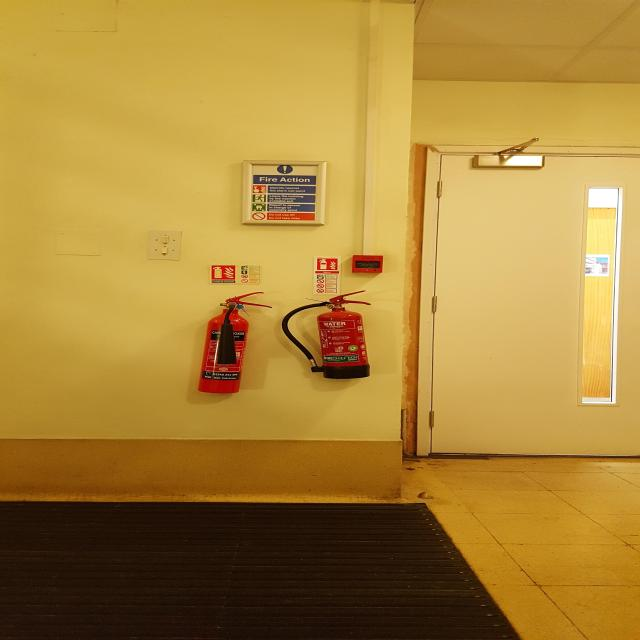fire_extinguisher: (278, 288, 376, 382), (190, 292, 273, 397)
